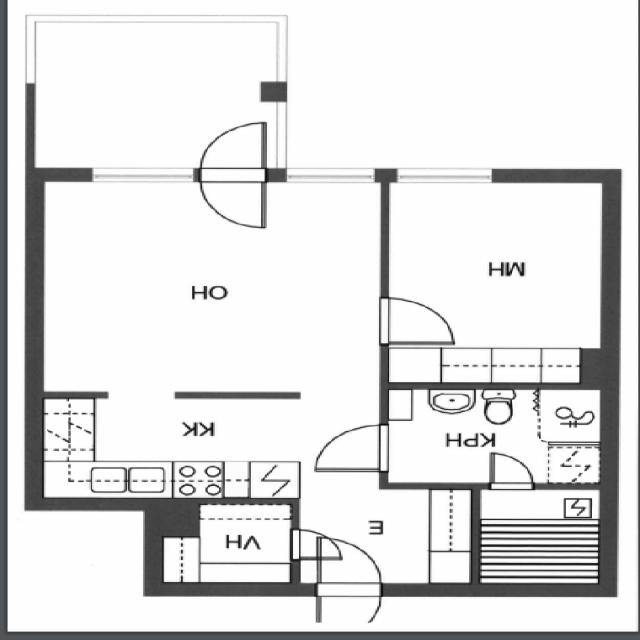door: (200, 168, 266, 227), (200, 122, 266, 181), (317, 539, 380, 597), (317, 583, 380, 640), (378, 298, 452, 343), (317, 425, 387, 469), (491, 454, 533, 490), (290, 529, 339, 559)
